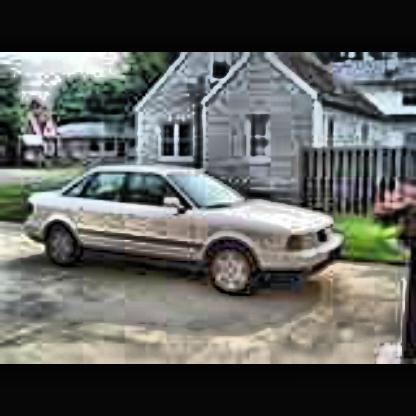Audi 100 Sedan 1994: (32, 165, 346, 308)
